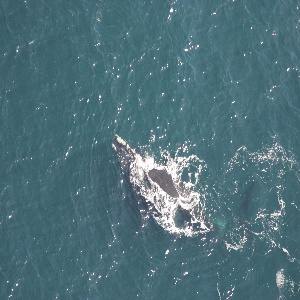cetacean: (110, 135, 220, 245)
